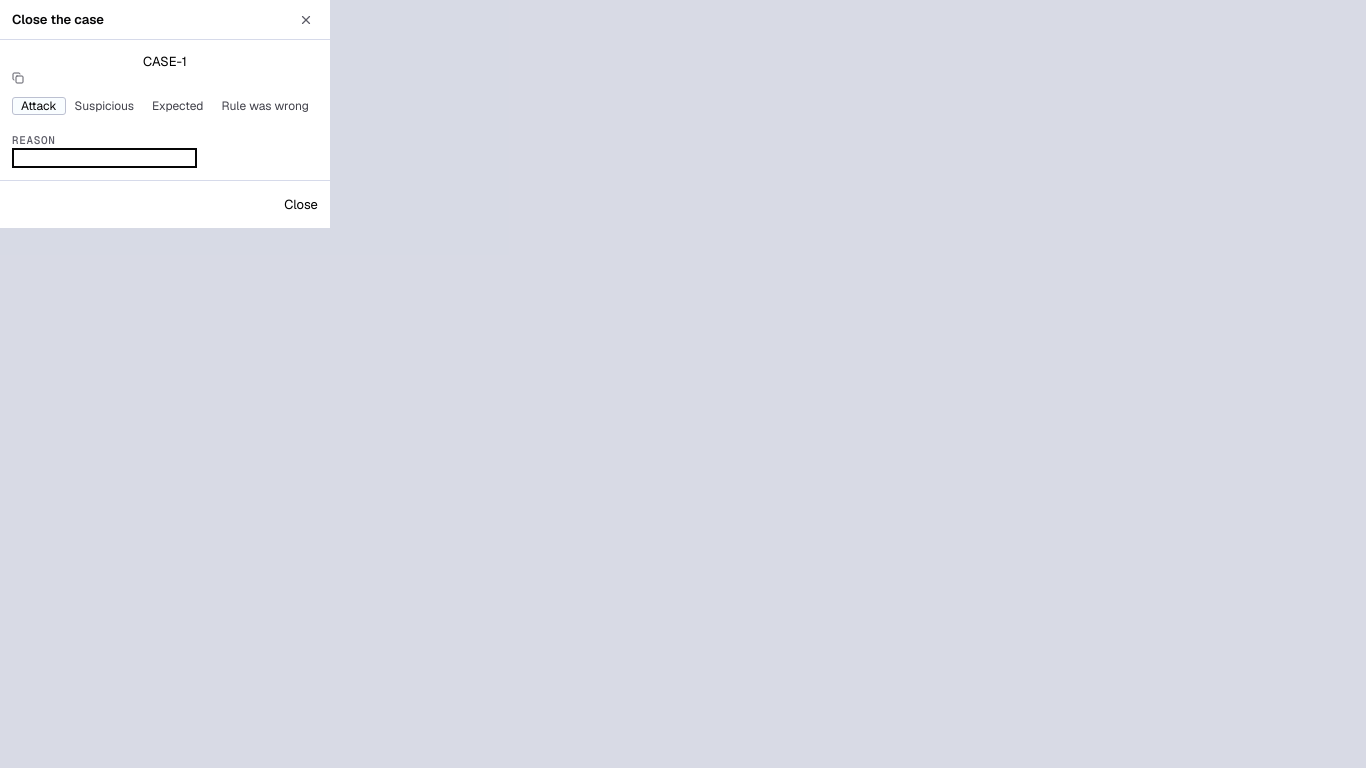
Test case: close dialog › presets the crew's verdict and offers Remember only for Expected and Rule was wrong
This screenshot has width=1366, height=768.
Expected: the element "Remember" is not shown
Click the radio button labelled "Expected" at {"x": 178, "y": 106}, box [143,97,212,115]
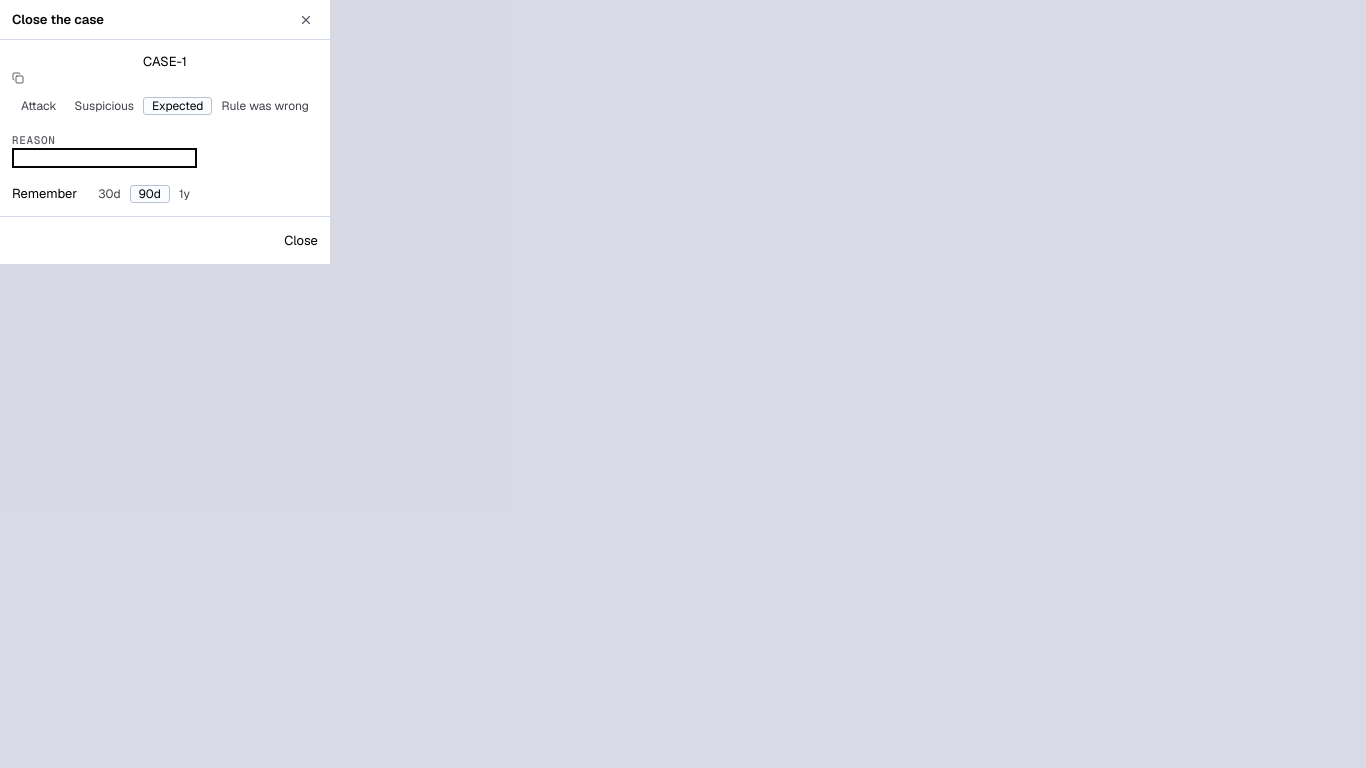
Now the element named "Remember" reads "30d 90d 1y", box [89,184,199,204]
Click the radio button labelled "Rule was wrong" at {"x": 265, "y": 106}, box [212,97,318,115]
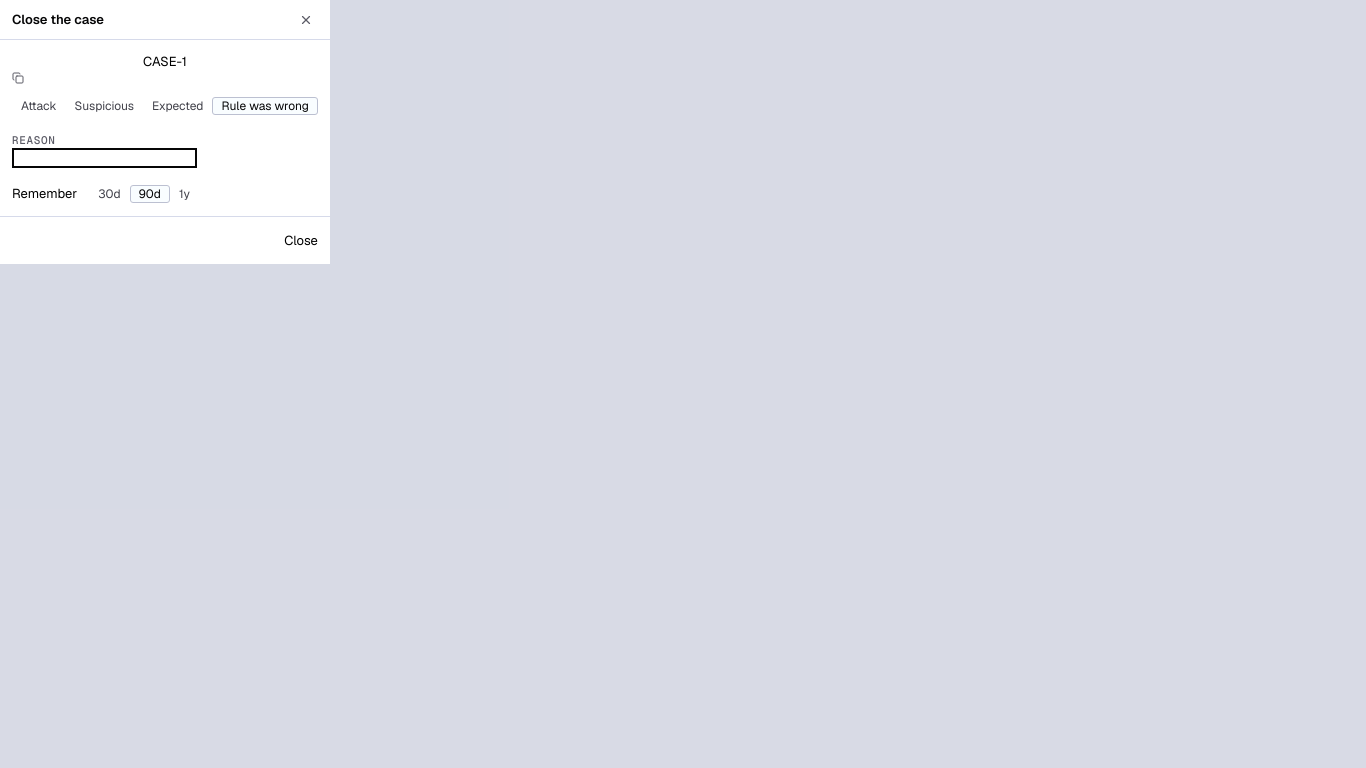
Now the element named "Remember" is shown, box [89,184,199,204]
Click the radio button labelled "Suspicious" at {"x": 104, "y": 106}, box [66,97,143,115]
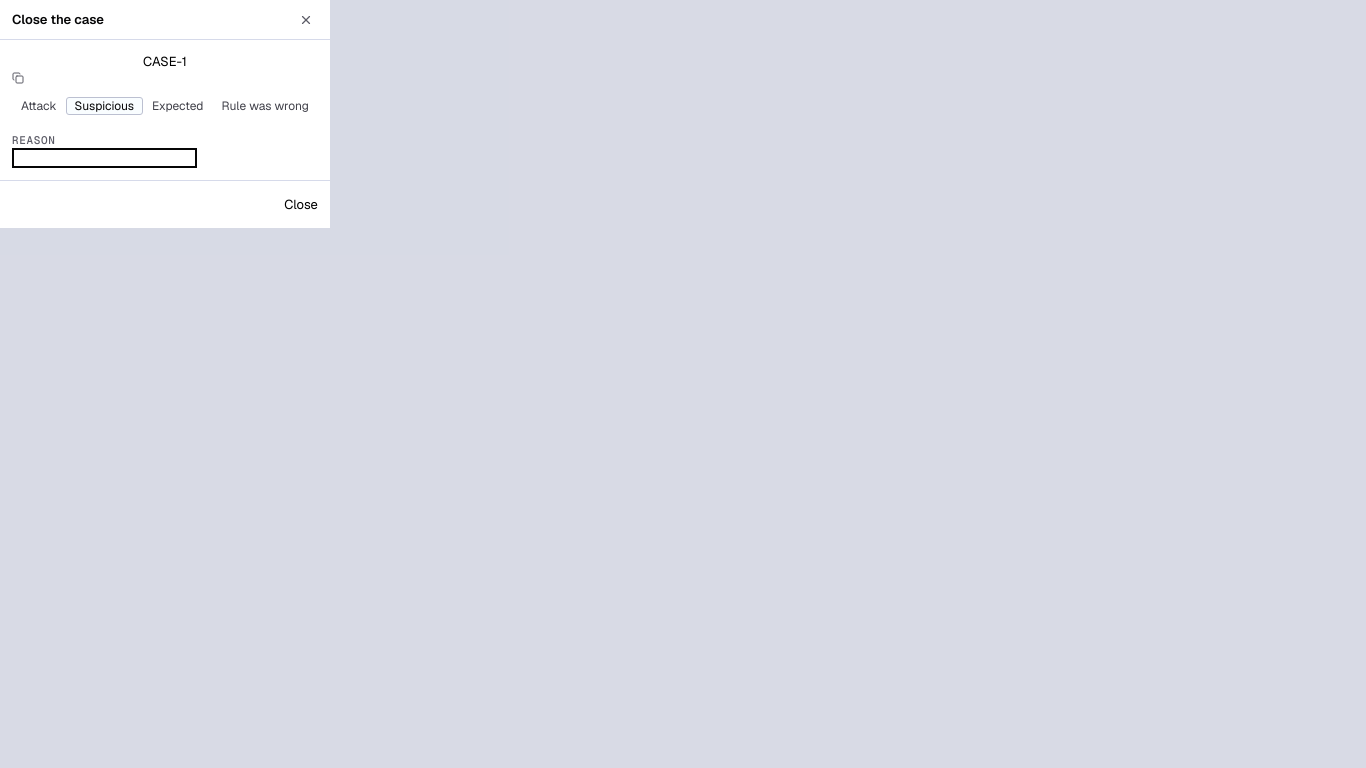
Now the text "Remember" is gone
